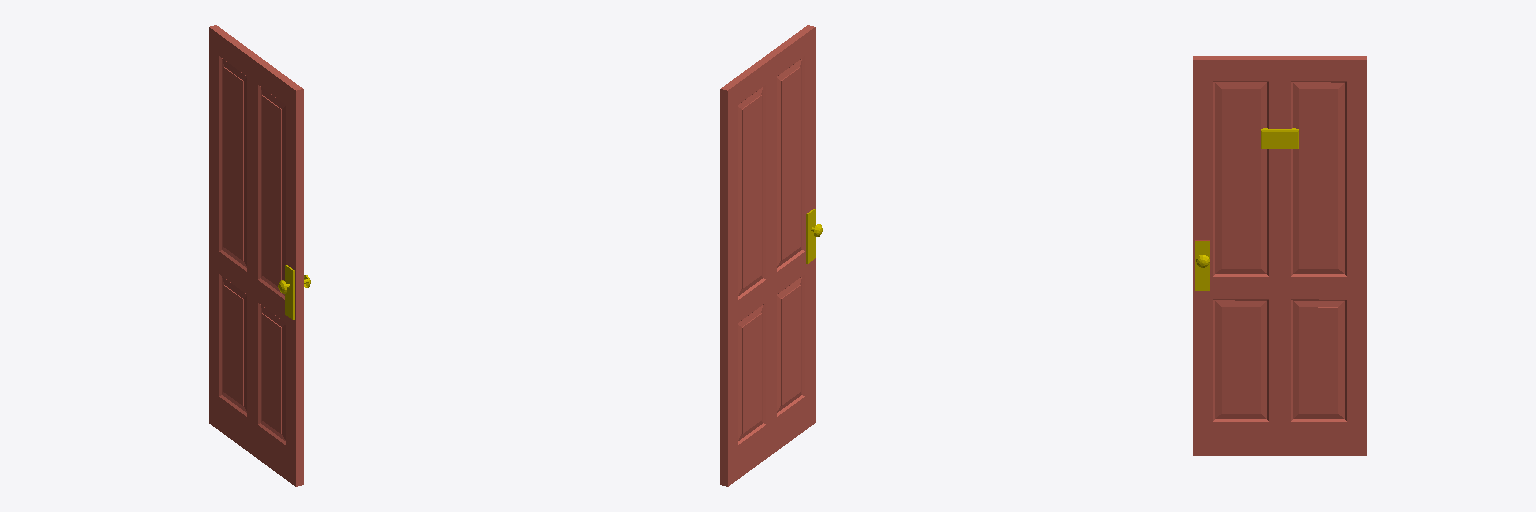
The picture shows the model from 3 angles: view 1: azimuth 30°, elevation 25°; view 2: azimuth 150°, elevation 25°; view 3: azimuth 270°, elevation 25°; orthographic projection.
Visible parts, largest first — view 1: puertaCuarto:polySurface153; view 2: puertaCuarto:polySurface153; view 3: puertaCuarto:polySurface153.
Part boxes in pixels (x1,y1,x2,y2): puertaCuarto:polySurface153: (209, 25, 310, 486); puertaCuarto:polySurface153: (720, 25, 822, 486); puertaCuarto:polySurface153: (1193, 56, 1366, 455).
Bounding box in the file's own units: 0.1031 × 1.29 × 0.5161.
3 materials, 3 textured.